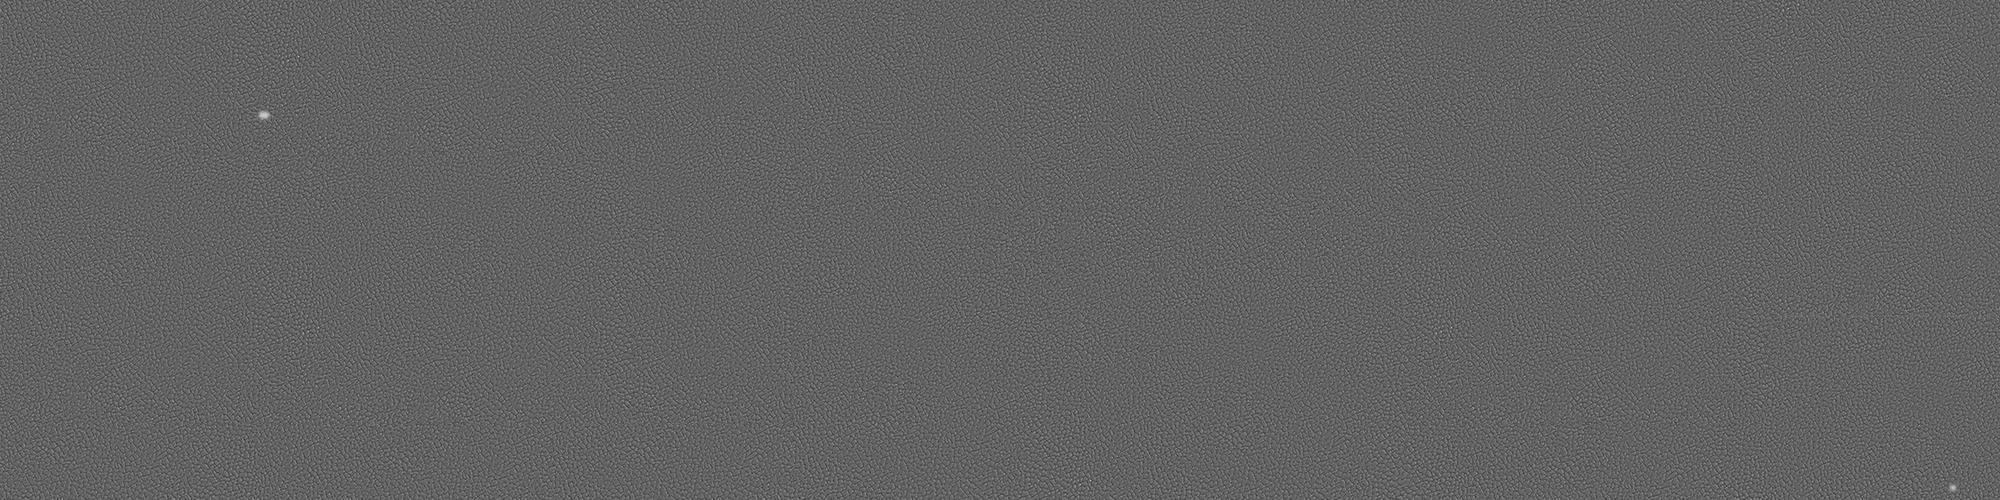Particles: (256, 108, 274, 122), (1946, 481, 1964, 495)
